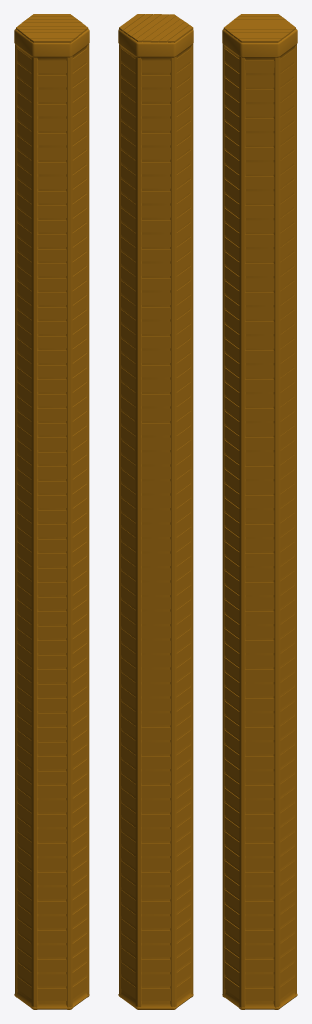
The model's file is Tile_Wood.fbx.
3 renders of one model, left to right at view 1: azimuth 90°, elevation 25°; view 2: azimuth 150°, elevation 25°; view 3: azimuth 270°, elevation 25°, orthographic.
Parts seen in each view (by area): view 1: Tile_Wood_LP; view 2: Tile_Wood_LP; view 3: Tile_Wood_LP.
Part boxes in pixels (left/top/right/bottom): Tile_Wood_LP: left=14, top=14, right=89, bottom=1009; Tile_Wood_LP: left=118, top=14, right=193, bottom=1009; Tile_Wood_LP: left=222, top=14, right=297, bottom=1009.
Bounding box in the file's own units: 173 × 2804 × 197.
1 material, 1 textured.
